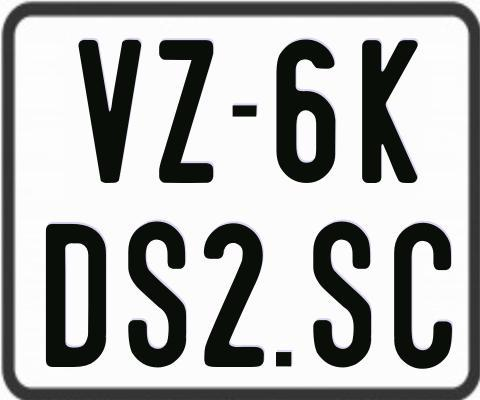2: (203, 220, 269, 370)
6: (276, 36, 338, 182)
C: (392, 223, 451, 370)
D: (43, 224, 109, 367)
K: (362, 39, 421, 183)
S: (126, 219, 190, 366), (310, 220, 372, 370)
V: (79, 40, 145, 183)
Z: (159, 40, 213, 189)
